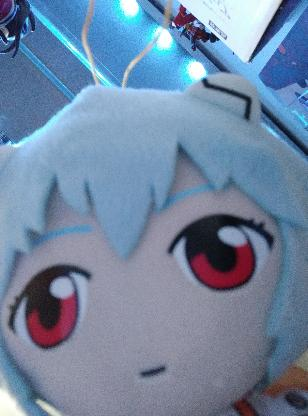rei-plush: (0, 67, 306, 415)
